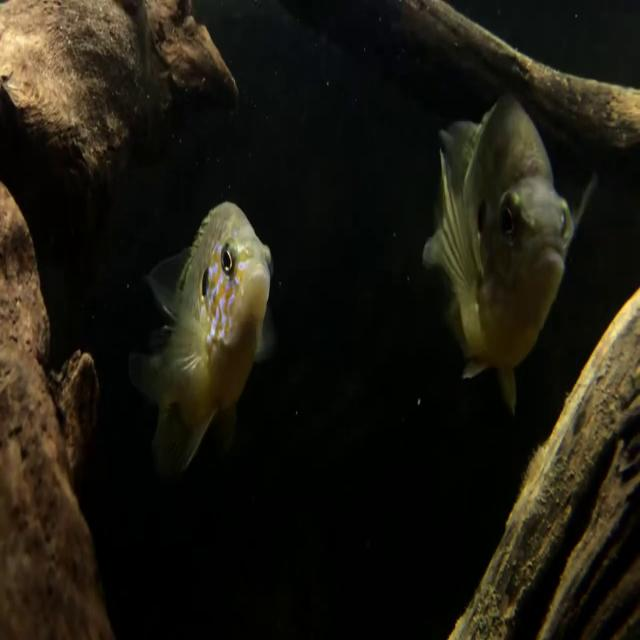Gunes Levregi: (421, 90, 597, 414), (130, 198, 274, 479)
